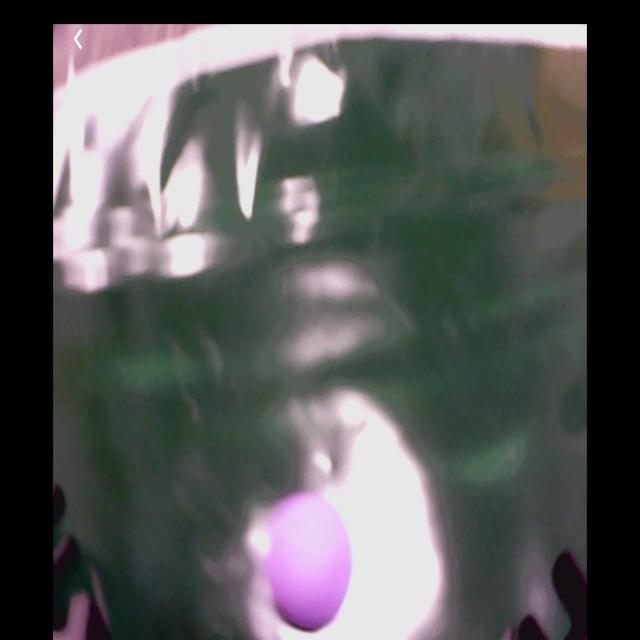ball: (268, 496, 351, 631)
